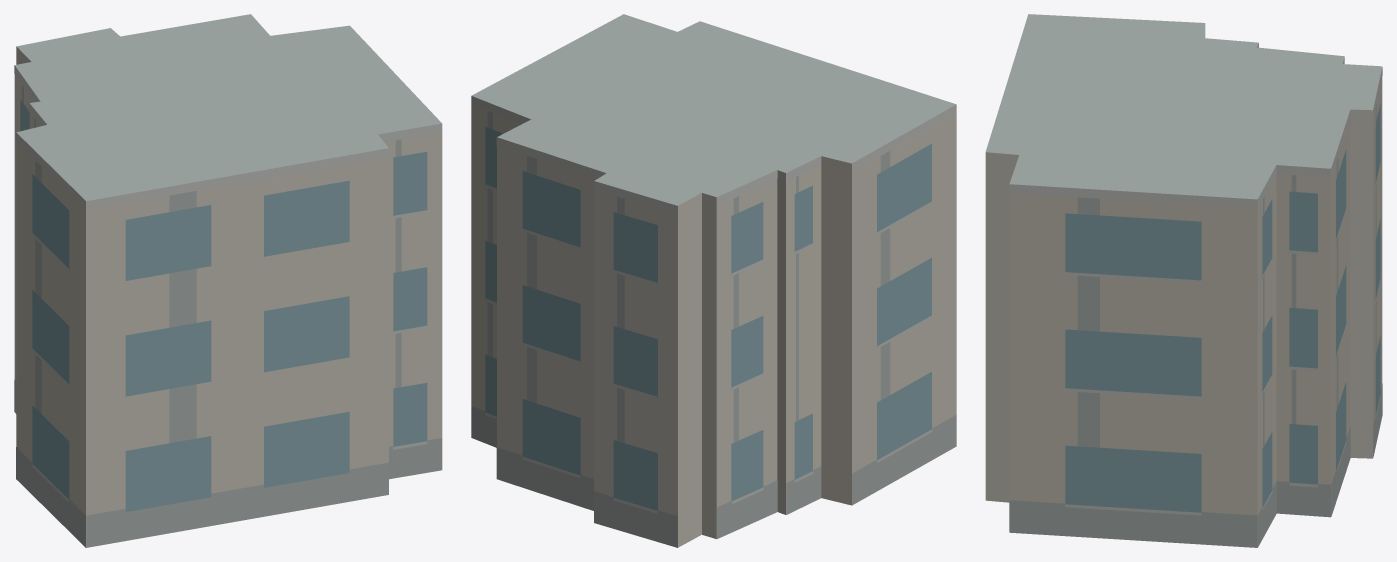
File: residential-8a01512d-871a-4816-ba3f-954194a3195a.glb
3 renders of one model, left to right at view 1: azimuth 30°, elevation 25°; view 2: azimuth 150°, elevation 25°; view 3: azimuth 270°, elevation 25°, orthographic.
Parts seen in each view (by area): view 1: residential-8a01512d-871a-4816-ba3f-954194a3195a.tmp; view 2: residential-8a01512d-871a-4816-ba3f-954194a3195a.tmp; view 3: residential-8a01512d-871a-4816-ba3f-954194a3195a.tmp.
Part boxes in pixels (x1=…): residential-8a01512d-871a-4816-ba3f-954194a3195a.tmp: x1=14, y1=14, x2=442, y2=547; residential-8a01512d-871a-4816-ba3f-954194a3195a.tmp: x1=471, y1=14, x2=956, y2=547; residential-8a01512d-871a-4816-ba3f-954194a3195a.tmp: x1=985, y1=14, x2=1382, y2=547.
Size of the model in its own units: 10.85 by 9.5 by 9.82.
